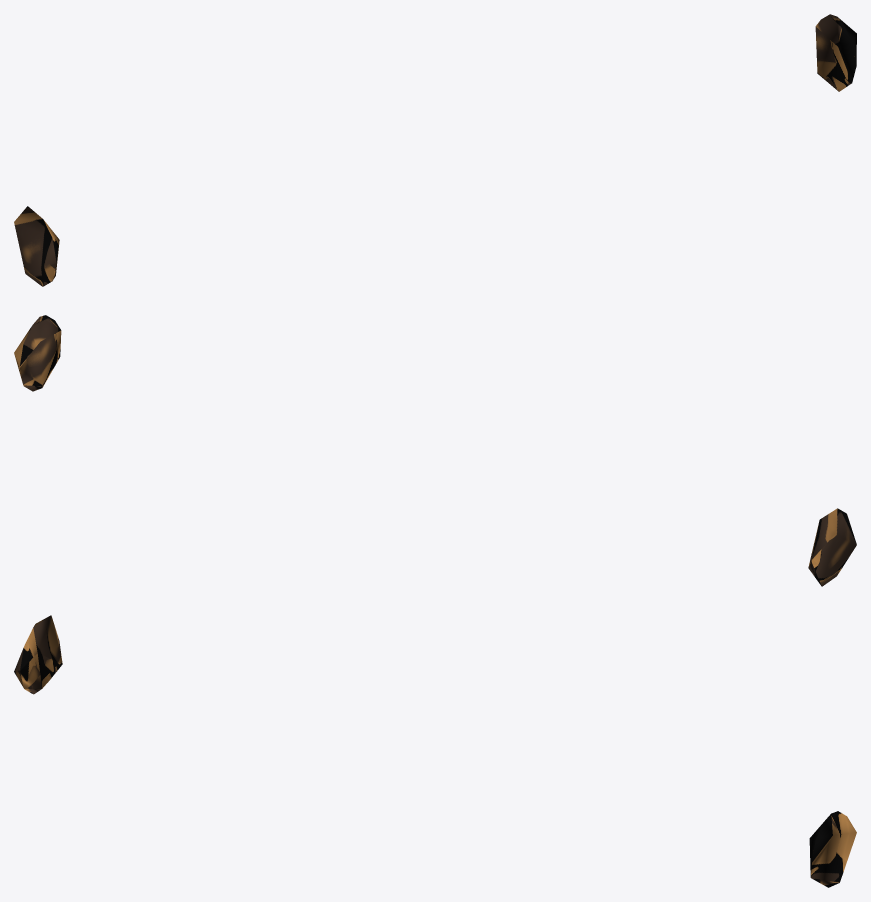
Rendered from Atalanta_SandaliaDer_Bronce.fbx.
3 views of the same model, one above another, from view 1: azimuth 30°, elevation 25°; view 2: azimuth 150°, elevation 25°; view 3: azimuth 330°, elevation 25° (orthographic).
Parts seen in each view (by area): view 1: Atalanta_SandaliaDer_Bronce; view 2: Atalanta_SandaliaDer_Bronce; view 3: Atalanta_SandaliaDer_Bronce.
Part boxes in pixels (x1=…): Atalanta_SandaliaDer_Bronce: x1=14, y1=14, x2=856, y2=286; Atalanta_SandaliaDer_Bronce: x1=14, y1=315, x2=856, y2=586; Atalanta_SandaliaDer_Bronce: x1=14, y1=615, x2=856, y2=887.
Bounding box in the file's own units: 1.14 × 0.0975 × 0.0951.
